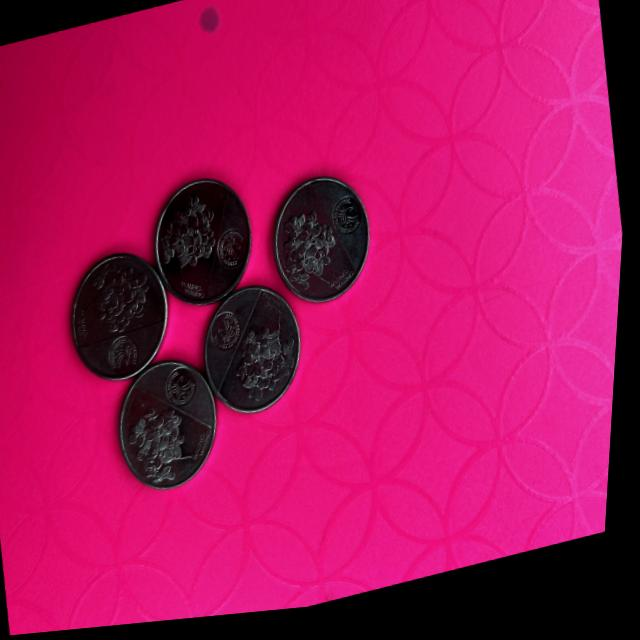1_New_Back: (231, 313, 312, 410), (125, 405, 203, 493), (158, 194, 230, 287), (84, 251, 160, 335), (280, 211, 347, 298)
